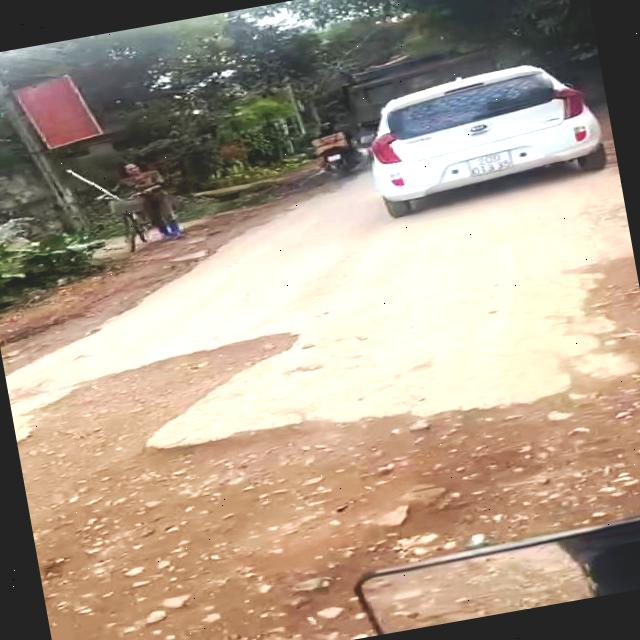pothole: (5, 268, 640, 640), (566, 208, 640, 398)
